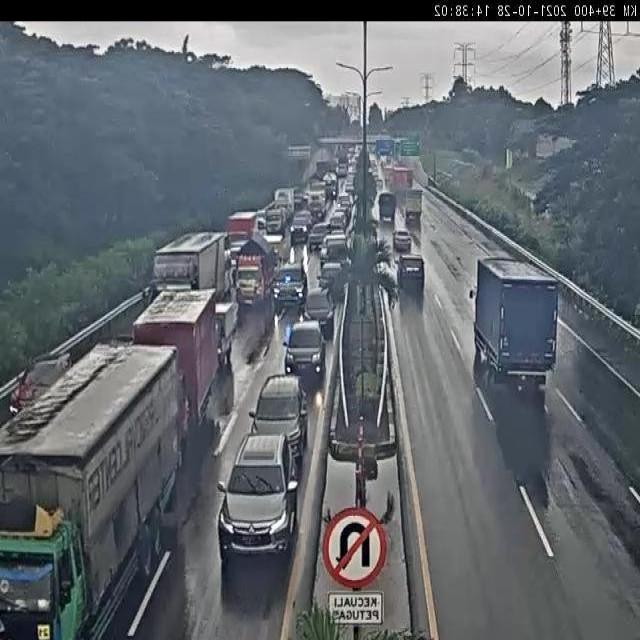Car: (215, 432, 300, 562), (248, 373, 310, 466), (9, 353, 71, 420), (282, 319, 325, 385), (303, 287, 335, 339), (272, 263, 306, 310), (396, 253, 424, 291), (324, 239, 351, 274), (320, 232, 346, 264), (317, 262, 343, 292), (290, 210, 313, 243), (307, 222, 329, 252), (393, 230, 412, 252), (329, 213, 346, 233), (255, 213, 267, 236), (293, 192, 307, 211), (337, 192, 351, 211)
Truck: (0, 338, 185, 640), (130, 286, 216, 432), (467, 255, 562, 385), (137, 229, 225, 306), (232, 232, 274, 304), (214, 299, 238, 373), (224, 209, 258, 246), (271, 185, 297, 223), (403, 188, 424, 222), (265, 205, 288, 234), (307, 188, 326, 222), (378, 192, 398, 222), (321, 169, 339, 199), (394, 165, 408, 192), (382, 165, 395, 186)
